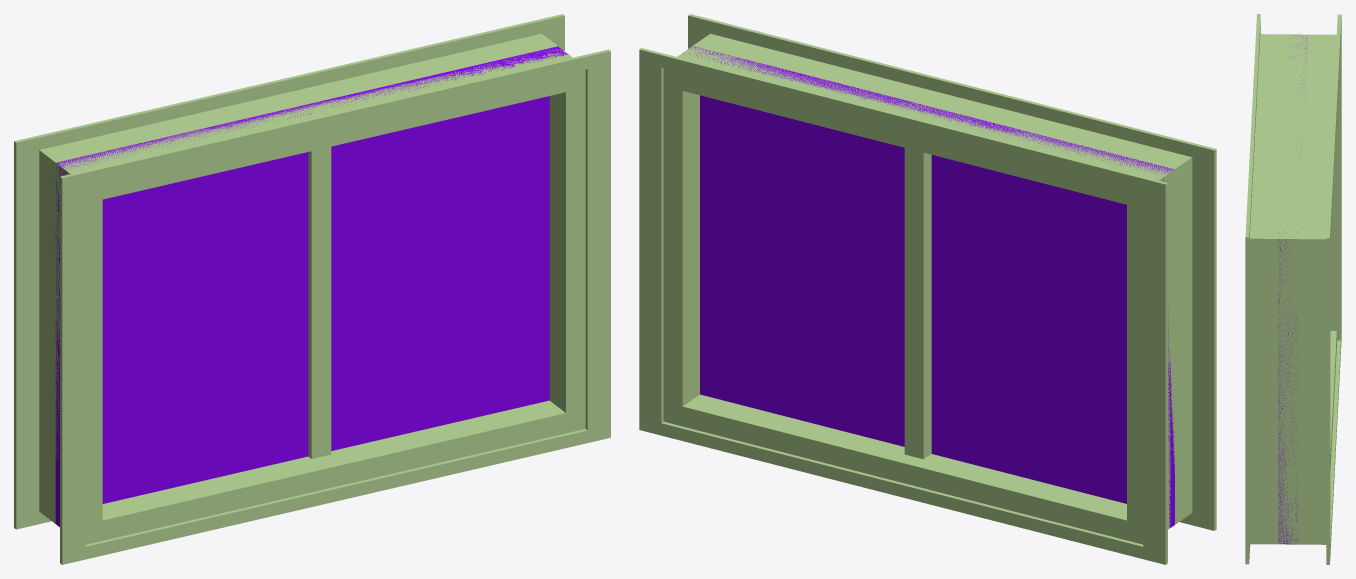
File: window.FBX
The picture shows the model from 3 angles, left to right: view 1: azimuth 30°, elevation 25°; view 2: azimuth 150°, elevation 25°; view 3: azimuth 270°, elevation 25°; orthographic projection. The views are drawn at different scales.
Parts seen in each view (by area): view 1: FixedWindow001; view 2: FixedWindow001; view 3: FixedWindow001.
Part boxes in pixels (x1,y1,x2,y2): FixedWindow001: (14, 14, 610, 564); FixedWindow001: (639, 14, 1216, 564); FixedWindow001: (1245, 14, 1341, 564).
Bounding box in the file's own units: 1403 × 953 × 254.
